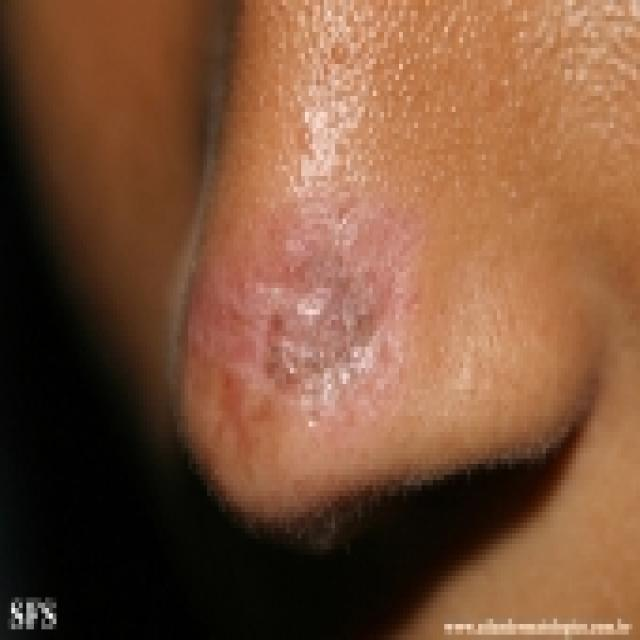lupus: (198, 189, 389, 430)
